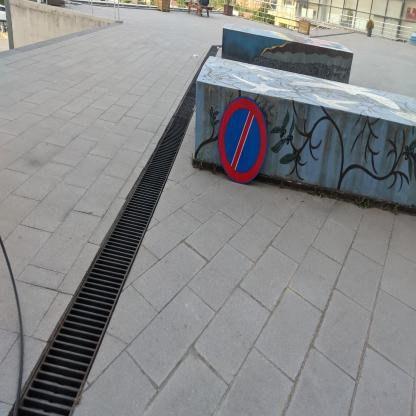No Waiting: (219, 96, 269, 186)
